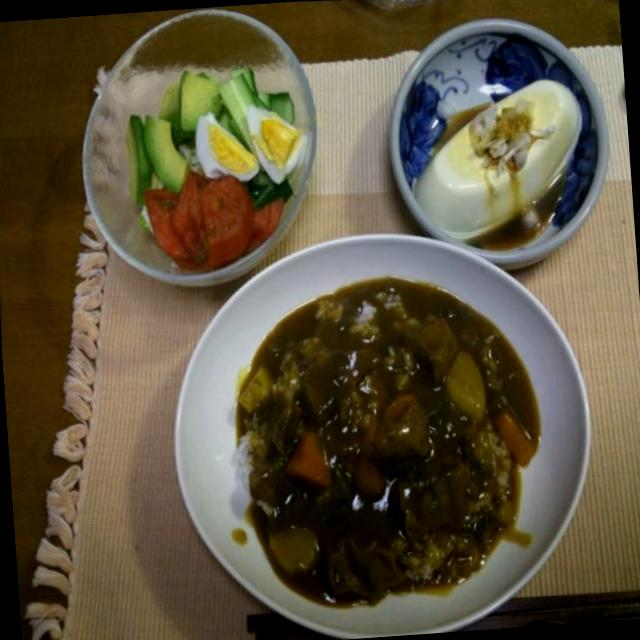Beef Curry: (149, 205, 621, 640)
